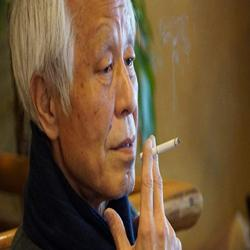smoking: (104, 134, 183, 250)
